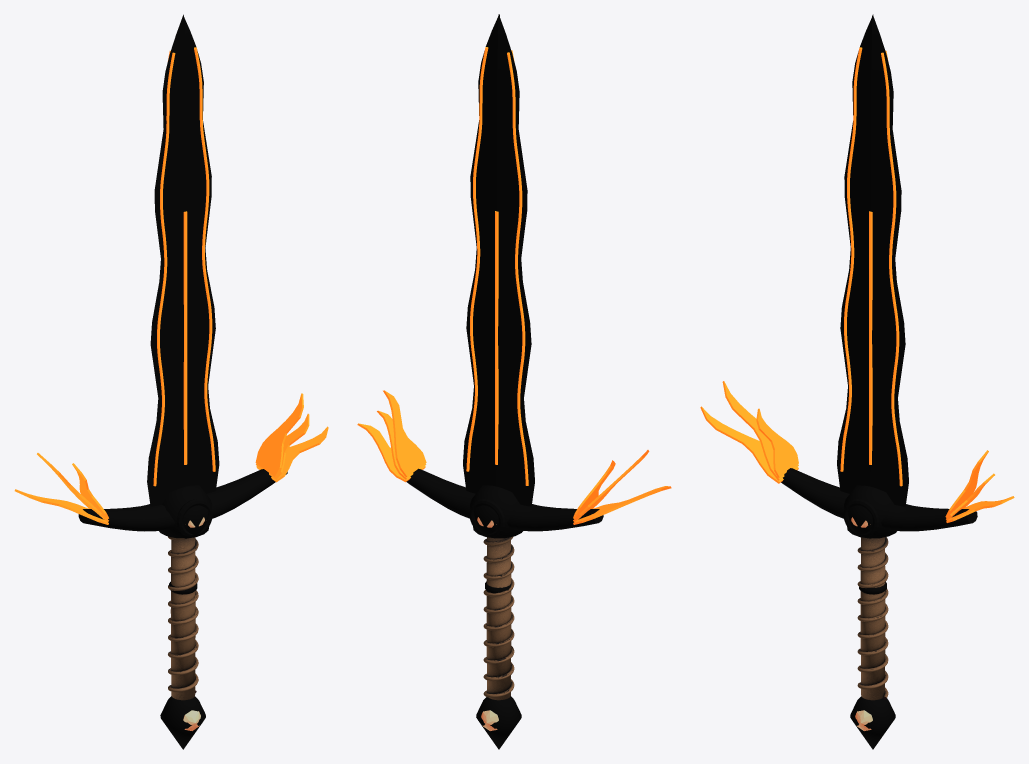
Rendered from arma_lend_espada_fogo.glb.
3 renders of one model, left to right at view 1: azimuth 30°, elevation 25°; view 2: azimuth 150°, elevation 25°; view 3: azimuth 330°, elevation 25°, orthographic.
Parts seen in each view (by area): view 1: arma_lend_espada_fogo, lamina_gume1, lamina_gume-1, guarda_ac12, lamina_runa-1, guarda_ac10, guarda_ac-10; view 2: arma_lend_espada_fogo, lamina_gume-1b, lamina_gume1b, guarda_ac12, lamina_runa1, guarda_ac10, guarda_ac-10; view 3: arma_lend_espada_fogo, lamina_gume1, lamina_gume-1, guarda_ac-12, lamina_runa-1, guarda_ac-10, guarda_ac-11, guarda_ac12.
Part boxes in pixels (x1,y1,x2,y2): arma_lend_espada_fogo: (78, 14, 287, 749); lamina_gume1: (194, 47, 215, 471); lamina_gume-1: (153, 52, 175, 486); guarda_ac12: (255, 393, 303, 477); lamina_runa-1: (183, 211, 187, 464); guarda_ac10: (256, 426, 328, 482); guarda_ac-10: (14, 489, 108, 524); arma_lend_espada_fogo: (406, 14, 603, 749); lamina_gume-1b: (507, 52, 528, 485); lamina_gume1b: (466, 47, 488, 471); guarda_ac12: (383, 390, 426, 476); lamina_runa1: (495, 211, 498, 464); guarda_ac10: (357, 423, 425, 482); guarda_ac-10: (573, 486, 671, 524); arma_lend_espada_fogo: (781, 14, 977, 749); lamina_gume1: (881, 52, 902, 486); lamina_gume-1: (840, 47, 862, 471); guarda_ac-12: (756, 408, 798, 477); lamina_runa-1: (869, 211, 872, 464); guarda_ac-10: (700, 406, 798, 483); guarda_ac-11: (722, 381, 798, 480); guarda_ac12: (945, 450, 988, 517).
Bounding box in the file's own units: 0.6627 × 1.48 × 0.1088.
17 materials, 1 textured.
